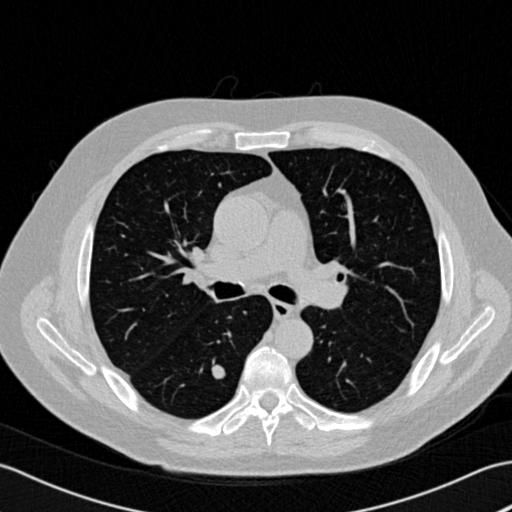nodule: (209, 363, 228, 382)
